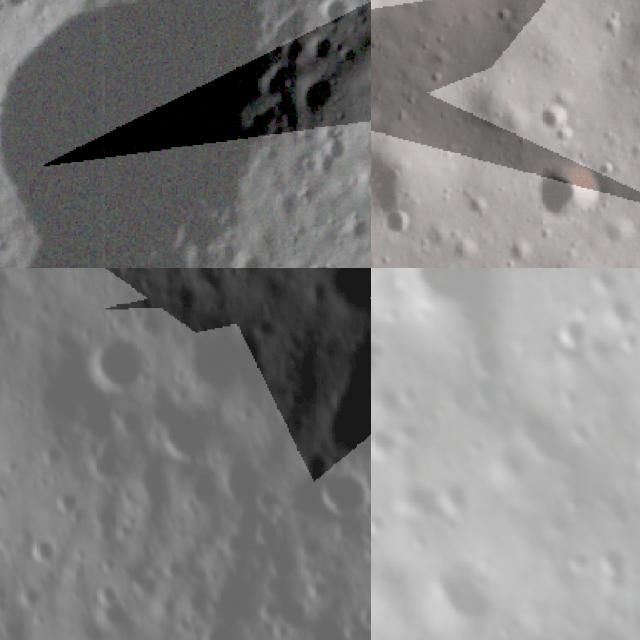crater: (0, 0, 288, 268), (421, 544, 503, 640), (172, 334, 258, 396), (77, 330, 150, 400), (528, 157, 600, 226), (138, 404, 216, 466), (509, 411, 577, 477), (314, 472, 367, 524), (290, 65, 336, 123), (269, 0, 314, 51), (253, 597, 304, 640), (217, 460, 262, 508), (597, 547, 640, 595), (432, 477, 478, 520), (464, 338, 512, 378), (554, 316, 594, 357), (22, 536, 68, 570), (371, 425, 404, 468), (474, 379, 512, 415), (371, 324, 393, 385), (607, 294, 640, 334), (316, 0, 352, 36), (557, 489, 594, 524), (576, 620, 640, 640), (567, 549, 601, 584), (13, 582, 48, 614), (89, 578, 121, 612), (558, 384, 590, 418), (48, 488, 80, 520), (371, 511, 395, 547), (221, 530, 249, 560), (197, 622, 243, 640), (616, 328, 640, 362), (572, 423, 599, 450), (0, 0, 40, 18), (122, 299, 152, 323), (349, 608, 371, 632), (628, 447, 640, 488), (0, 268, 9, 294)
